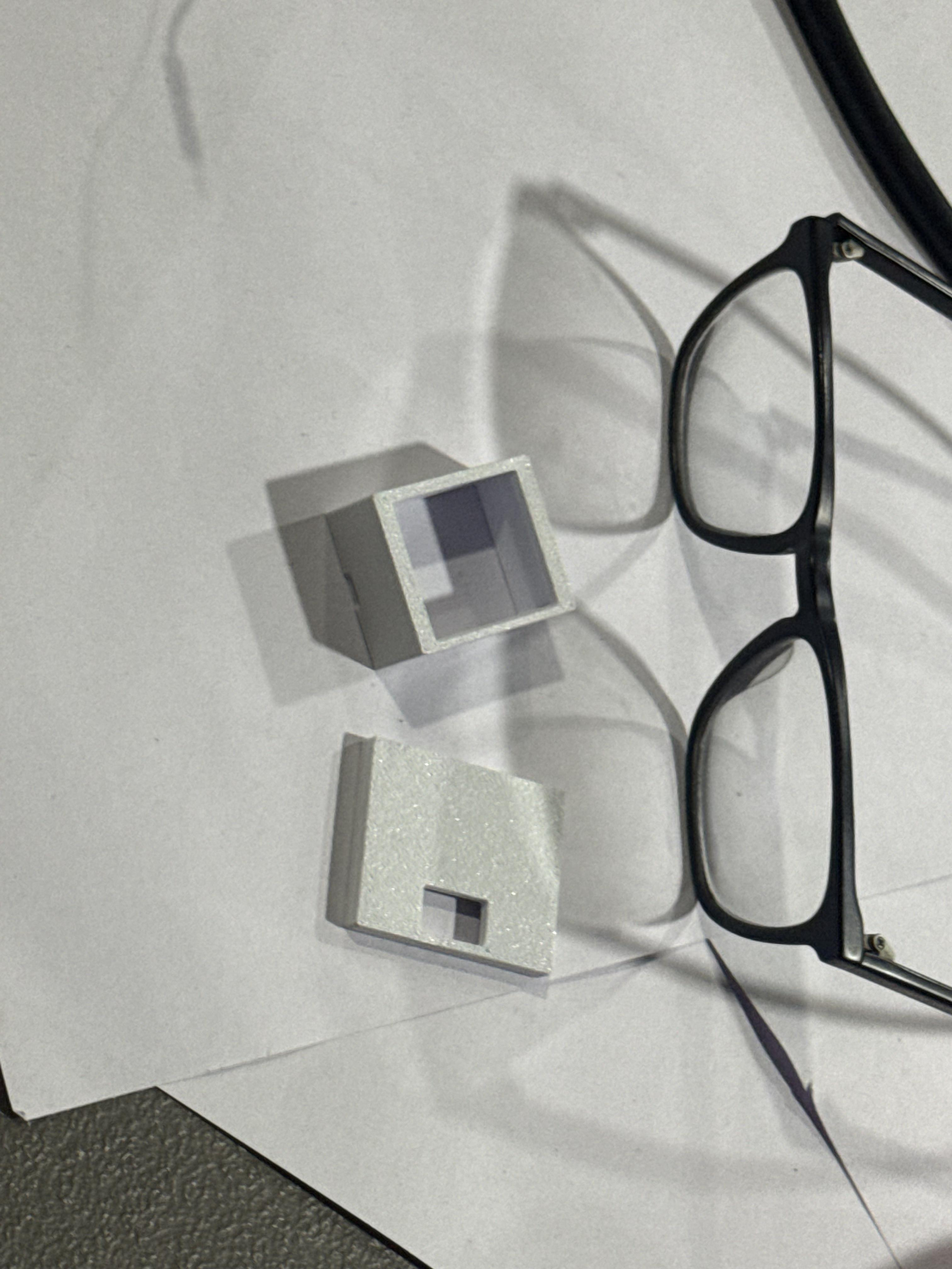enclosure: (279, 454, 579, 671), (326, 731, 564, 977)
